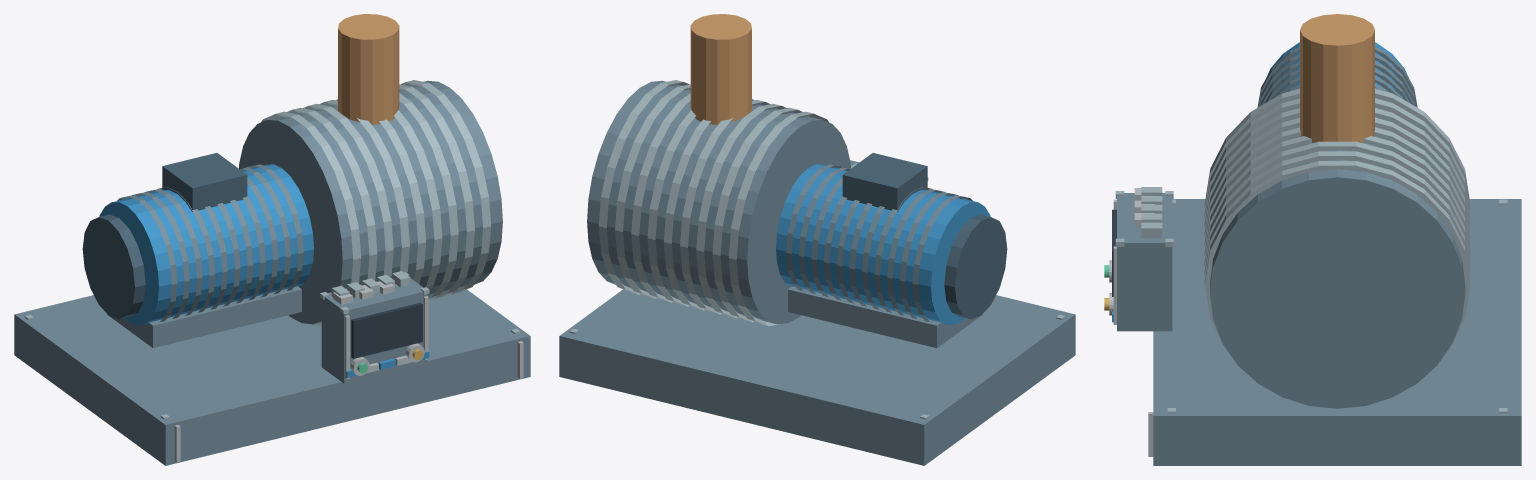
Rendered from 26_L72_VacuumBackingPump.glb.
3 renders of one model, left to right at view 1: azimuth 30°, elevation 25°; view 2: azimuth 150°, elevation 25°; view 3: azimuth 270°, elevation 25°, orthographic. The views are drawn at different scales.
Parts seen in each view (by area): view 1: VacuumBackingPump_Part_000, VacuumBackingPump_Part_023, VacuumBackingPump_Part_007, VacuumBackingPump_Part_033, VacuumBackingPump_Part_020, VacuumBackingPump_Part_021, VacuumBackingPump_Part_034, VacuumBackingPump_Part_022, VacuumBackingPump_Part_041, VacuumBackingPump_Part_032, VacuumBackingPump_Part_031, VacuumBackingPump_Part_030 (+17 smaller); view 2: VacuumBackingPump_Part_000, VacuumBackingPump_Part_023, VacuumBackingPump_Part_007, VacuumBackingPump_Part_033, VacuumBackingPump_Part_020, VacuumBackingPump_Part_021, VacuumBackingPump_Part_022, VacuumBackingPump_Part_024, VacuumBackingPump_Part_026, VacuumBackingPump_Part_032, VacuumBackingPump_Part_025, VacuumBackingPump_Part_031 (+15 smaller); view 3: VacuumBackingPump_Part_023, VacuumBackingPump_Part_000, VacuumBackingPump_Part_033, VacuumBackingPump_Part_034, VacuumBackingPump_Part_032, VacuumBackingPump_Part_030, VacuumBackingPump_Part_031, VacuumBackingPump_Part_029, VacuumBackingPump_Part_028, VacuumBackingPump_Part_025, VacuumBackingPump_Part_026, VacuumBackingPump_Part_024 (+6 smaller).
Part boxes in pixels (x1=…): VacuumBackingPump_Part_000: x1=14, y1=289, x2=530, y2=465; VacuumBackingPump_Part_023: x1=239, y1=80, x2=502, y2=324; VacuumBackingPump_Part_007: x1=99, y1=164, x2=313, y2=325; VacuumBackingPump_Part_033: x1=338, y1=14, x2=399, y2=124; VacuumBackingPump_Part_020: x1=82, y1=214, x2=145, y2=319; VacuumBackingPump_Part_021: x1=108, y1=286, x2=301, y2=348; VacuumBackingPump_Part_034: x1=321, y1=277, x2=427, y2=383; VacuumBackingPump_Part_022: x1=162, y1=153, x2=247, y2=211; VacuumBackingPump_Part_041: x1=351, y1=302, x2=422, y2=358; VacuumBackingPump_Part_032: x1=401, y1=80, x2=491, y2=294; VacuumBackingPump_Part_031: x1=399, y1=84, x2=474, y2=298; VacuumBackingPump_Part_030: x1=399, y1=93, x2=458, y2=299; VacuumBackingPump_Part_000: x1=559, y1=289, x2=1075, y2=465; VacuumBackingPump_Part_023: x1=587, y1=80, x2=850, y2=324; VacuumBackingPump_Part_007: x1=776, y1=164, x2=990, y2=325; VacuumBackingPump_Part_033: x1=690, y1=14, x2=751, y2=124; VacuumBackingPump_Part_020: x1=944, y1=214, x2=1007, y2=319; VacuumBackingPump_Part_021: x1=788, y1=286, x2=981, y2=348; VacuumBackingPump_Part_022: x1=842, y1=153, x2=927, y2=211; VacuumBackingPump_Part_024: x1=728, y1=111, x2=828, y2=326; VacuumBackingPump_Part_026: x1=696, y1=103, x2=786, y2=318; VacuumBackingPump_Part_032: x1=598, y1=80, x2=688, y2=294; VacuumBackingPump_Part_025: x1=712, y1=107, x2=802, y2=322; VacuumBackingPump_Part_031: x1=615, y1=84, x2=690, y2=298; VacuumBackingPump_Part_023: x1=1210, y1=88, x2=1465, y2=408; VacuumBackingPump_Part_000: x1=1153, y1=199, x2=1521, y2=465; VacuumBackingPump_Part_033: x1=1300, y1=14, x2=1374, y2=142; VacuumBackingPump_Part_034: x1=1117, y1=193, x2=1172, y2=331; VacuumBackingPump_Part_032: x1=1204, y1=161, x2=1470, y2=353; VacuumBackingPump_Part_030: x1=1204, y1=141, x2=1470, y2=267; VacuumBackingPump_Part_031: x1=1204, y1=151, x2=1470, y2=276; VacuumBackingPump_Part_029: x1=1204, y1=136, x2=1470, y2=257; VacuumBackingPump_Part_028: x1=1204, y1=127, x2=1470, y2=247; VacuumBackingPump_Part_025: x1=1204, y1=98, x2=1470, y2=218; VacuumBackingPump_Part_026: x1=1204, y1=108, x2=1470, y2=228; VacuumBackingPump_Part_024: x1=1204, y1=88, x2=1470, y2=209.
Size of the model in its own units: 2.05 by 1.69 by 1.67.
